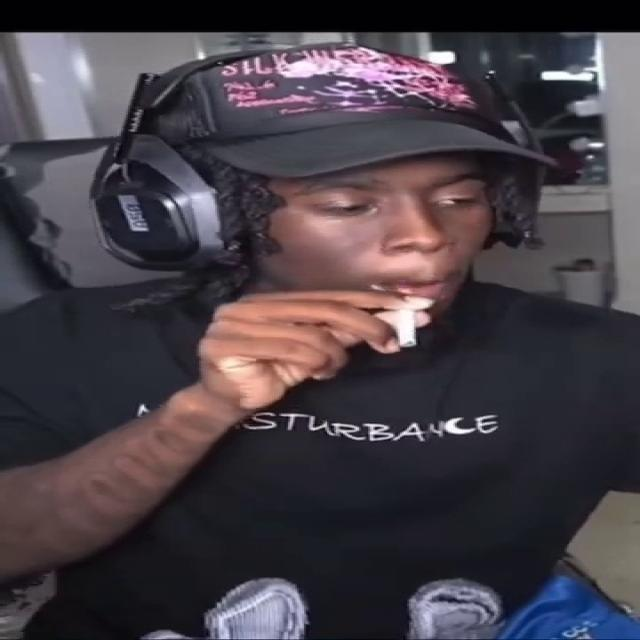Cigarette: (398, 308, 417, 345)
Hand: (200, 288, 434, 413)
Mouth: (366, 268, 461, 299)
